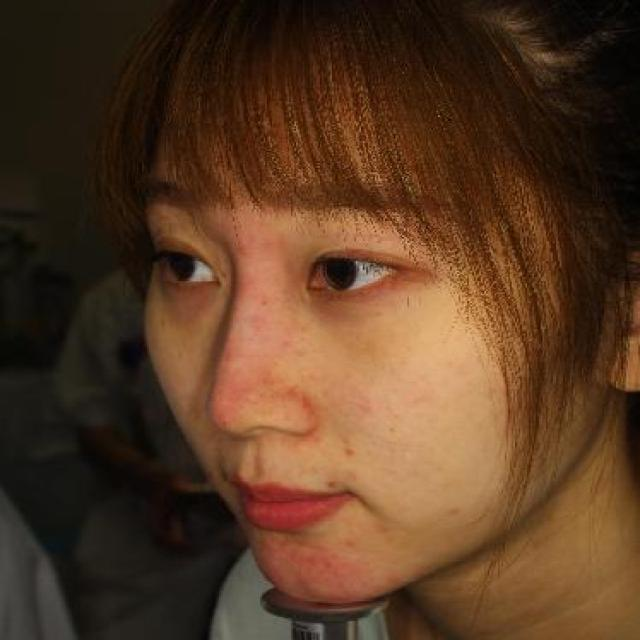dark spot: (276, 322, 313, 356), (248, 294, 277, 334), (337, 428, 356, 464), (372, 516, 401, 538), (444, 498, 466, 524), (340, 535, 360, 551), (322, 477, 335, 492)
